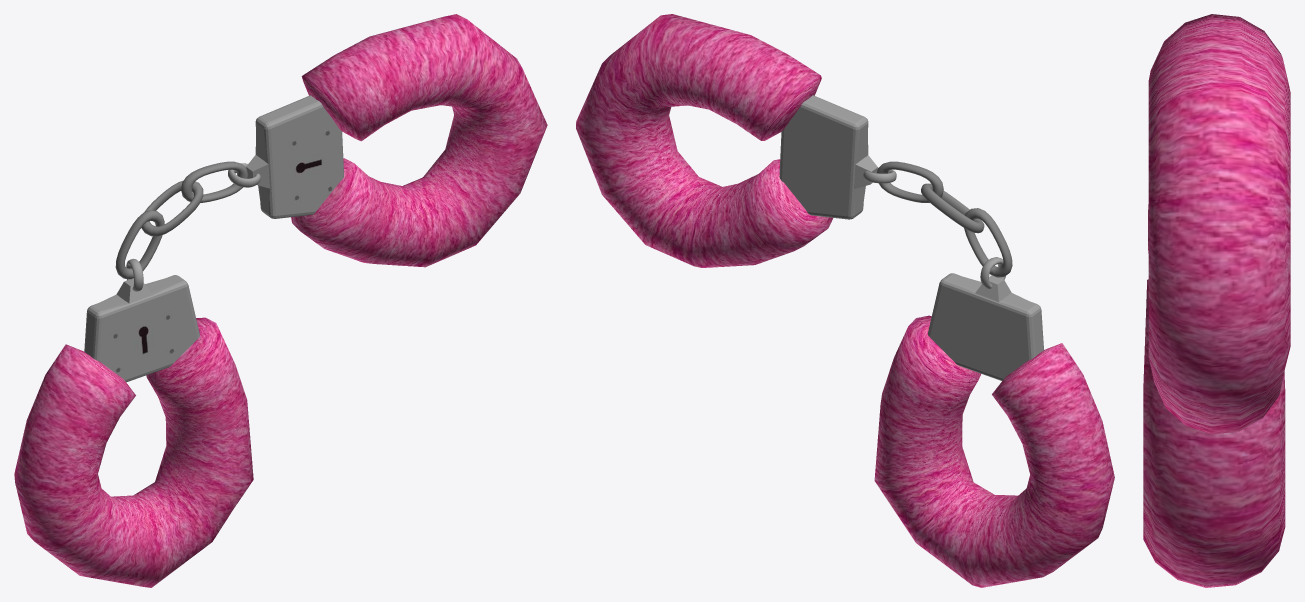
Rendered from handcuff.fbx.
3 views of the same model, side by side, from view 1: azimuth 30°, elevation 25°; view 2: azimuth 150°, elevation 25°; view 3: azimuth 270°, elevation 25° (orthographic). The views are drawn at different scales.
Parts seen in each view (by area): view 1: handcuff; view 2: handcuff; view 3: handcuff.
Boxes of the visible parts, box(x1,y1,x2,y2) form: handcuff: box(14, 14, 547, 587); handcuff: box(576, 14, 1114, 587); handcuff: box(1143, 14, 1290, 587).
Size of the model in its own units: 419 by 373 by 67.29.
1 material, 1 textured.
